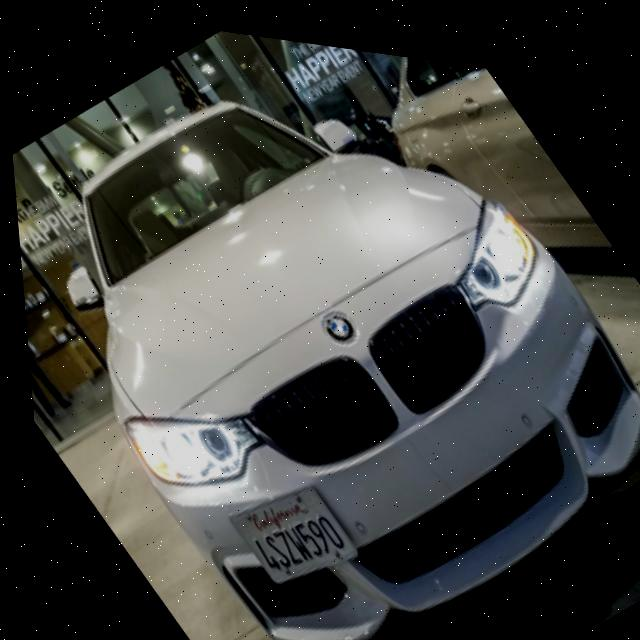license_plate: (214, 454, 351, 596)
